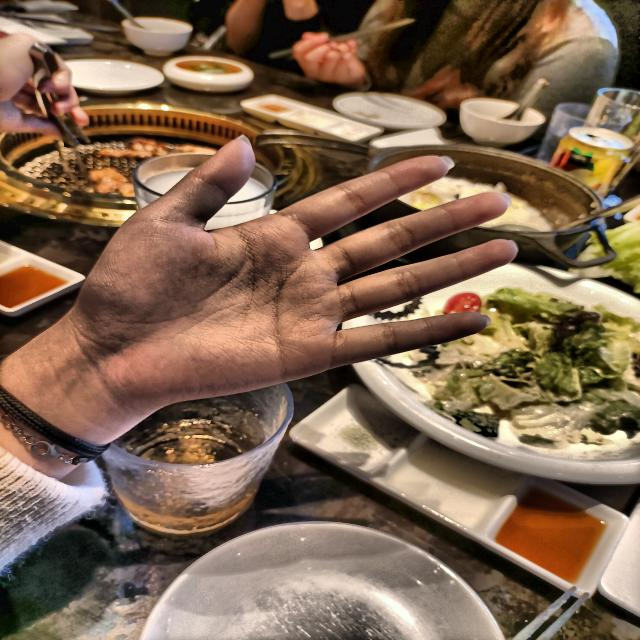not-gloved: (59, 125, 532, 416)
